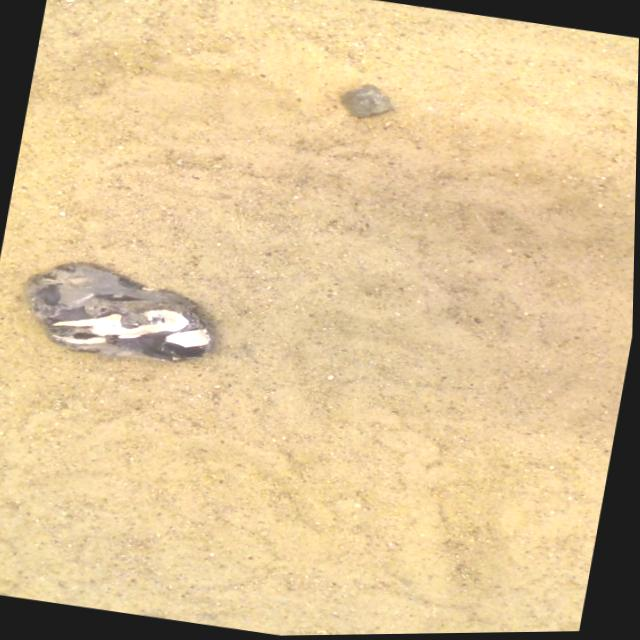rock: (28, 262, 213, 361), (342, 85, 394, 118)
